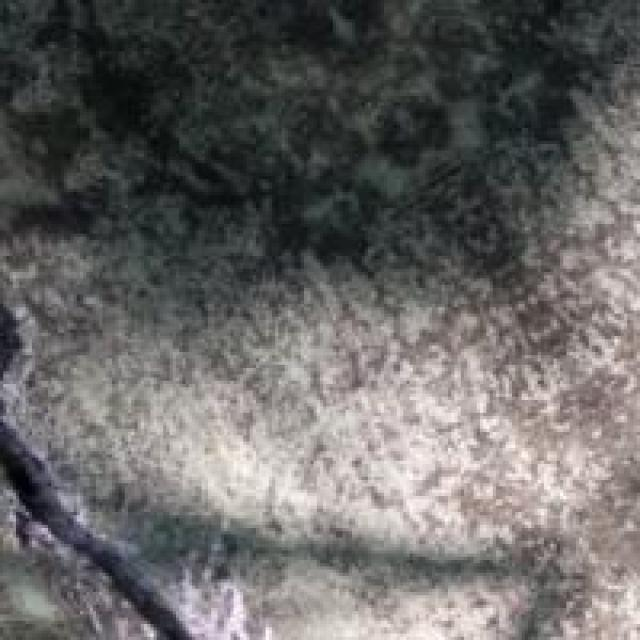crack: (0, 301, 195, 627)
